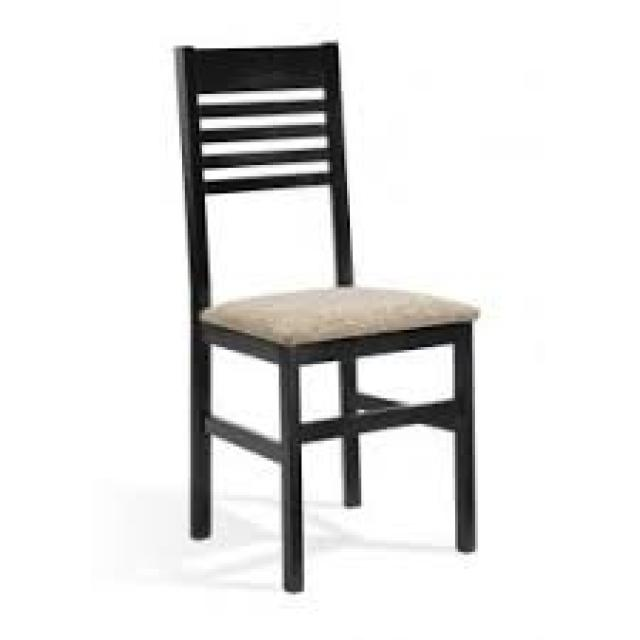bottle: (172, 36, 484, 596)
